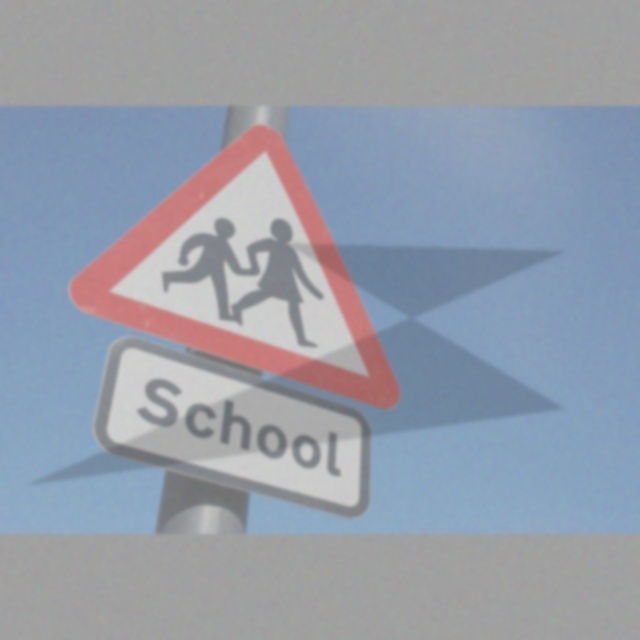School_Ahead: (76, 113, 417, 396)
